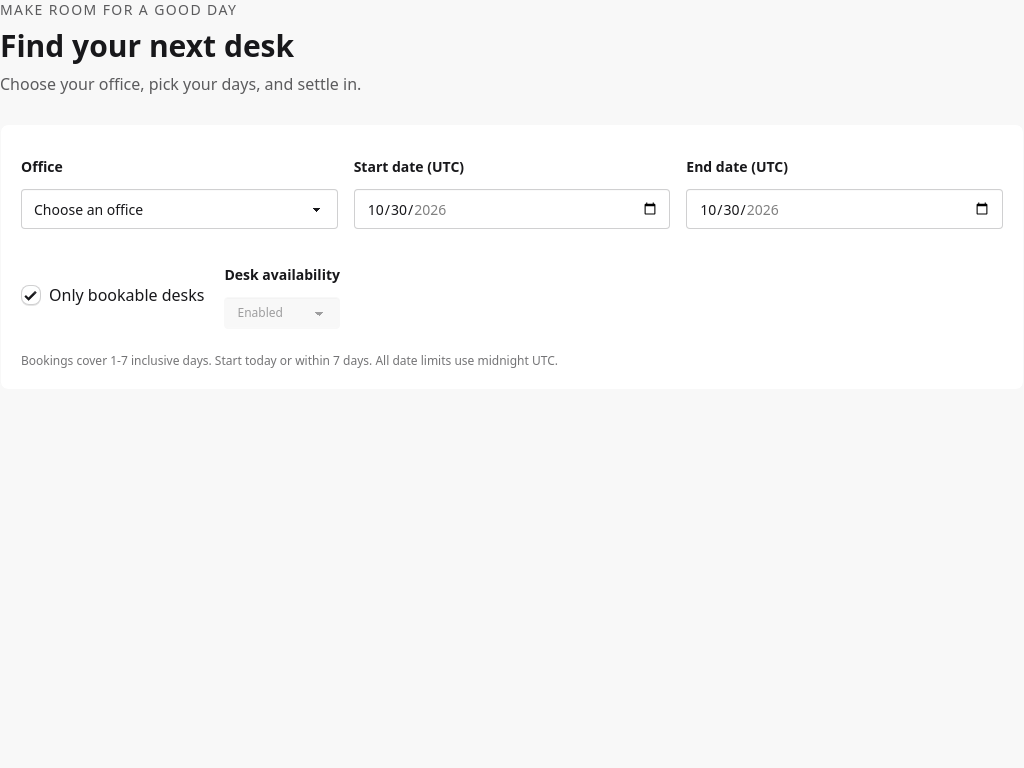
Test case: books the selected desk with calendar strings and refreshes reservation queries
The width and height of the screenshot is (1024, 768).
Select "Warsaw / Warsaw" in the dropdown labelled "Office" at point(179, 209), box [21,189,338,229]
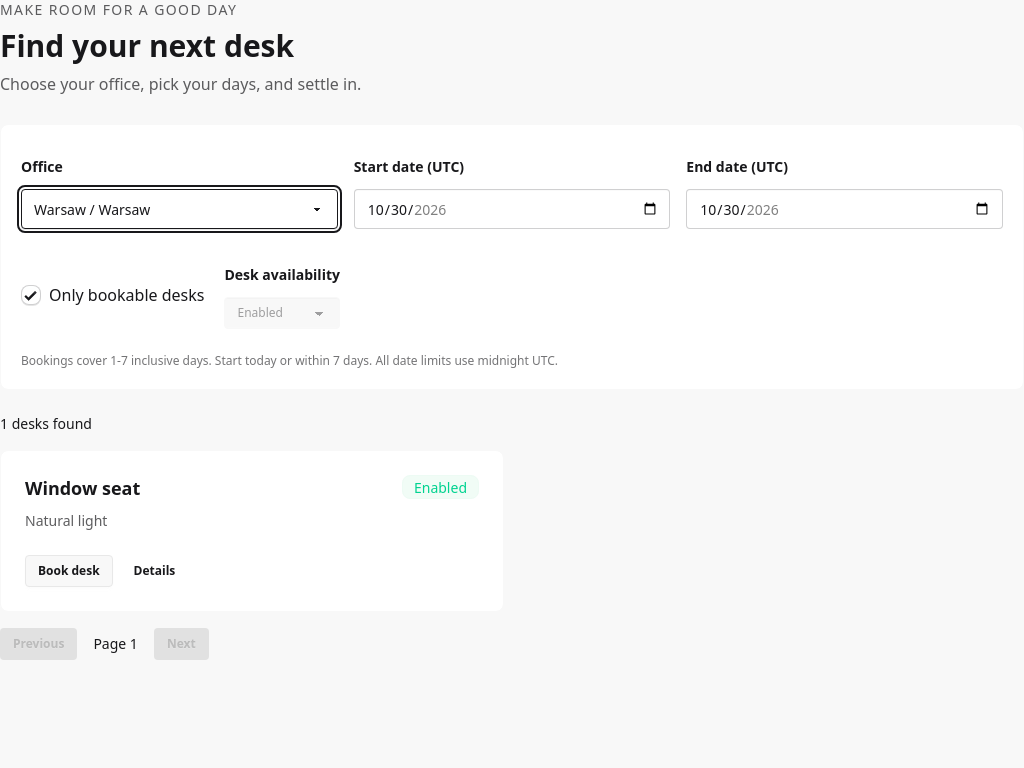
Click the button "Book desk" at point(69, 571), box [25,555,113,587]
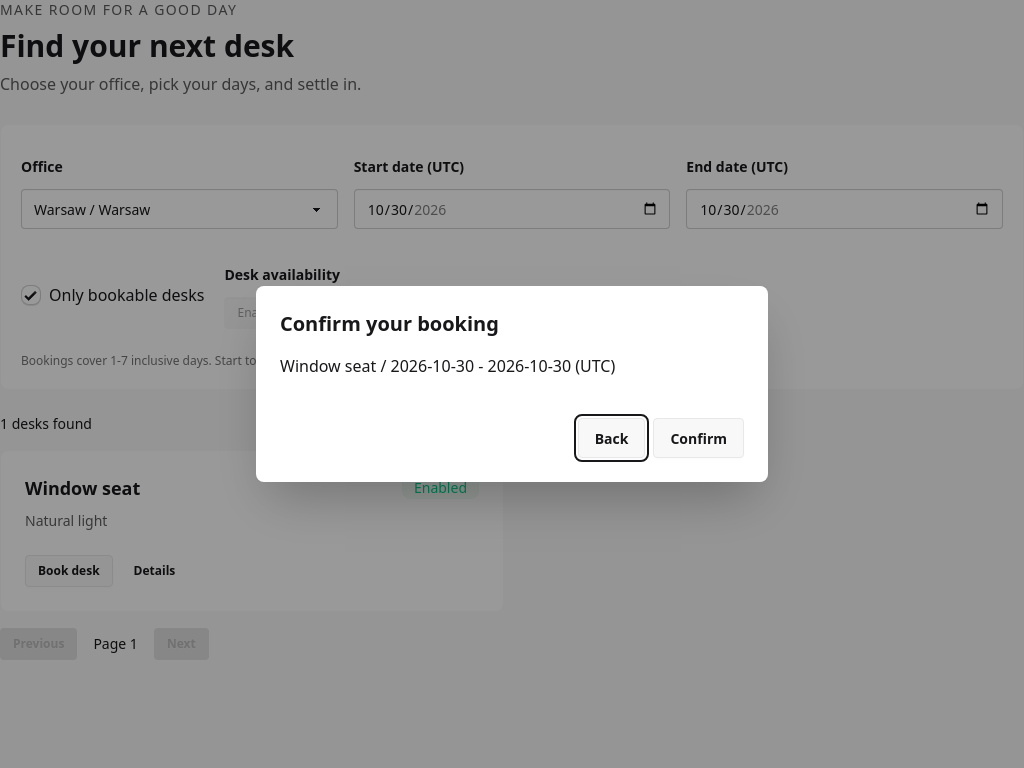
Click the button "Confirm" at point(699, 438), box [653,418,744,458]
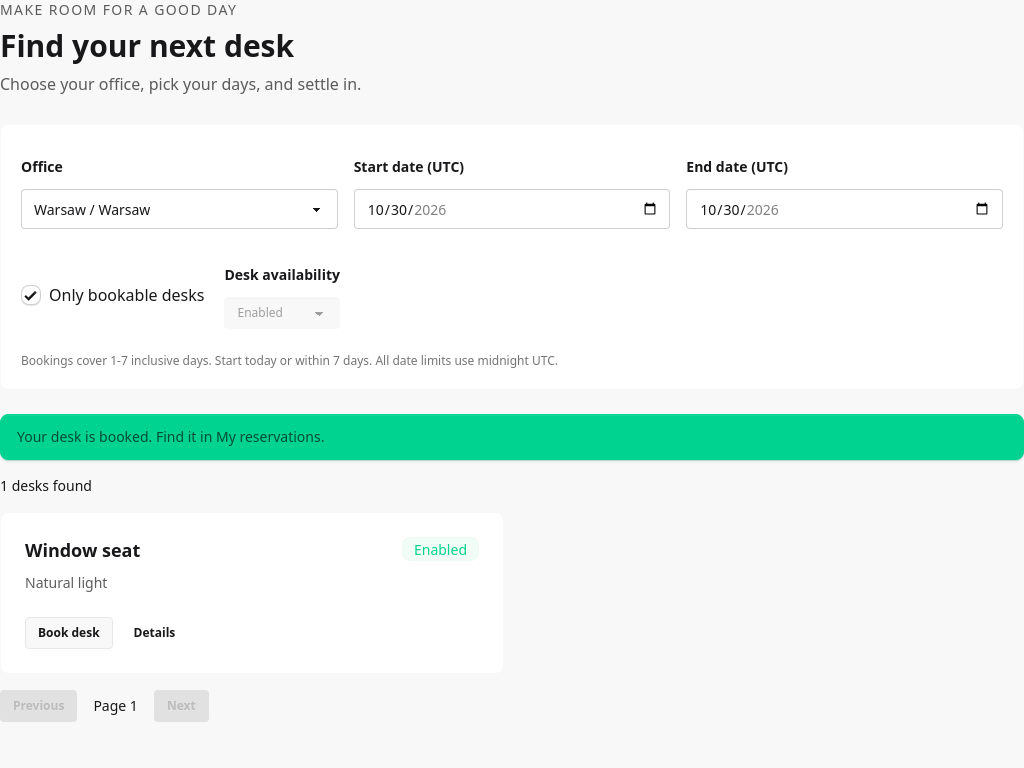
Expected: the message "Your desk is booked. Find it in My reservations." is shown, [0,414,1023,460]
